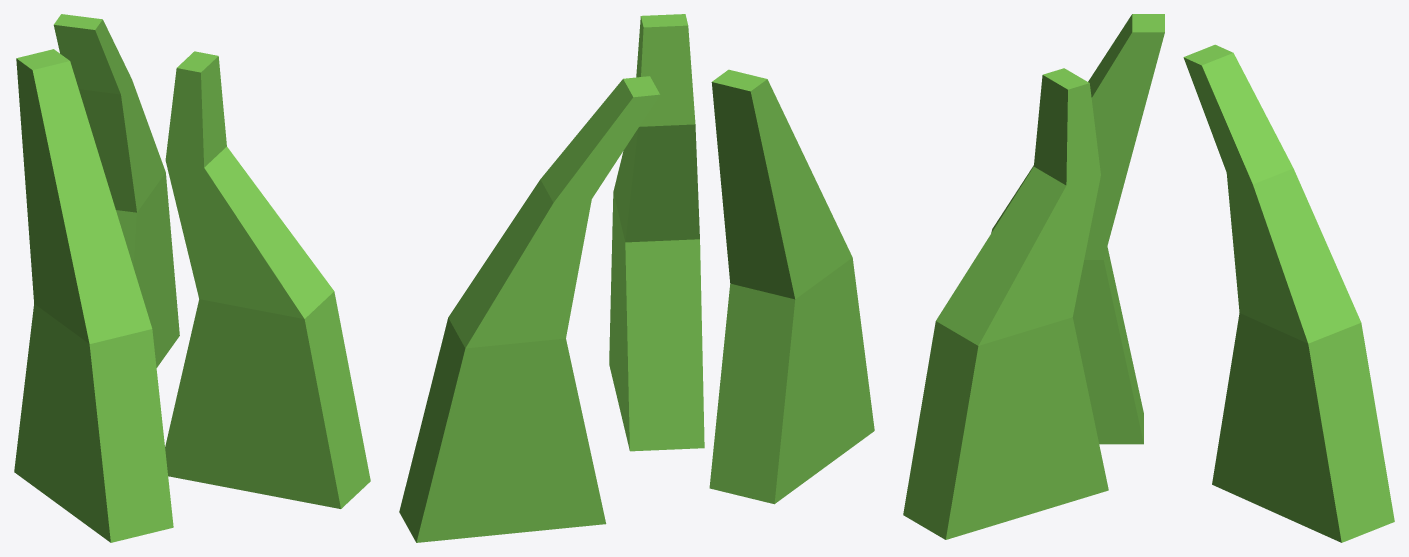
Rendered from Grass_1.fbx.
The picture shows the model from 3 angles, left to right: view 1: azimuth 30°, elevation 25°; view 2: azimuth 150°, elevation 25°; view 3: azimuth 270°, elevation 25°; orthographic projection. The views are drawn at different scales.
Visible parts, largest first — view 1: Cube; view 2: Cube; view 3: Cube.
Part boxes in pixels (box(x1,y1,x2,y2)): Cube: box(14, 14, 370, 542); Cube: box(399, 14, 874, 542); Cube: box(903, 14, 1394, 542).
Bounding box in the file's own units: 21.57 × 31.47 × 34.58.
